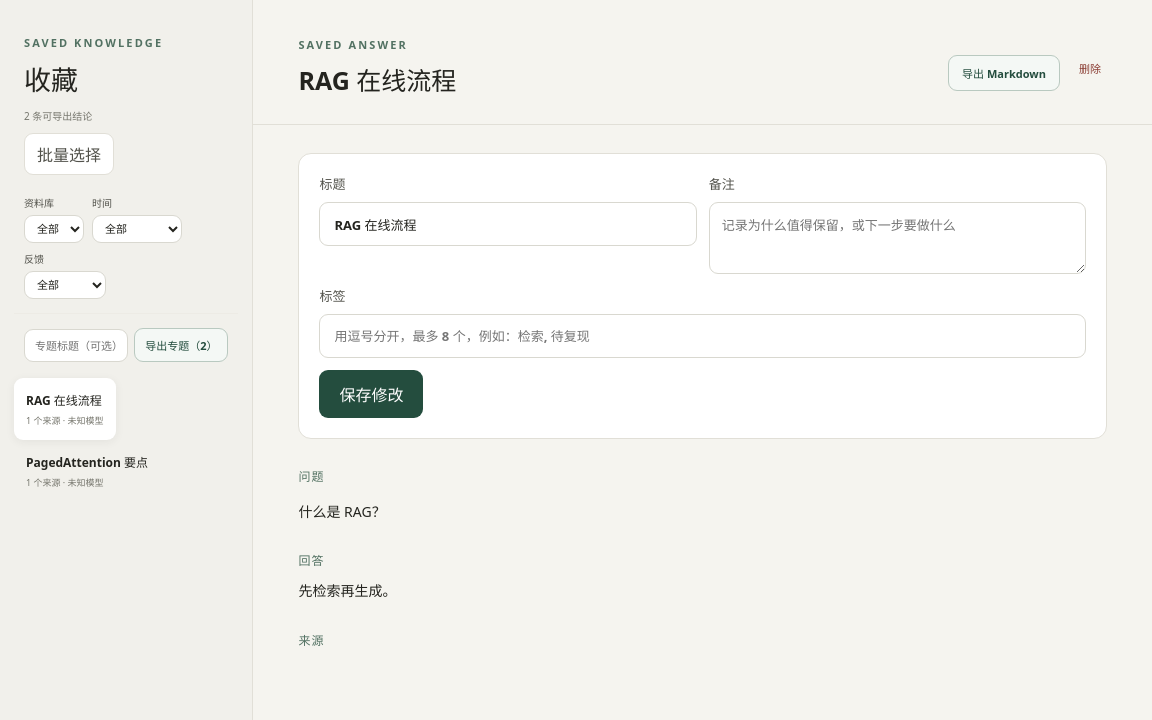
Scenario: FavoritesPage 的批量删除 › 完成之后回到普通列表，选择状态清空
The width and height of the screenshot is (1152, 720).
Click the button "批量选择".
click(69, 154)  # box [24,133,114,175]
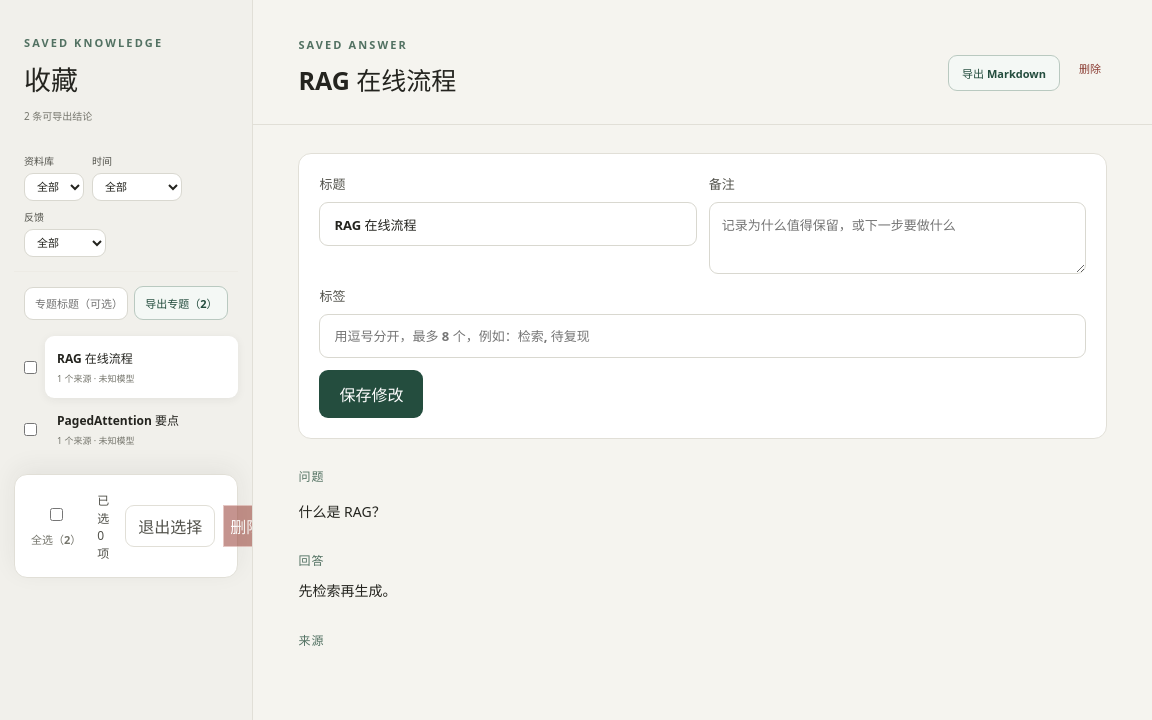
Click the button "PagedAttention 要点 1 个来源 · 未知模型".
click(142, 429)  # box [45,398,238,460]
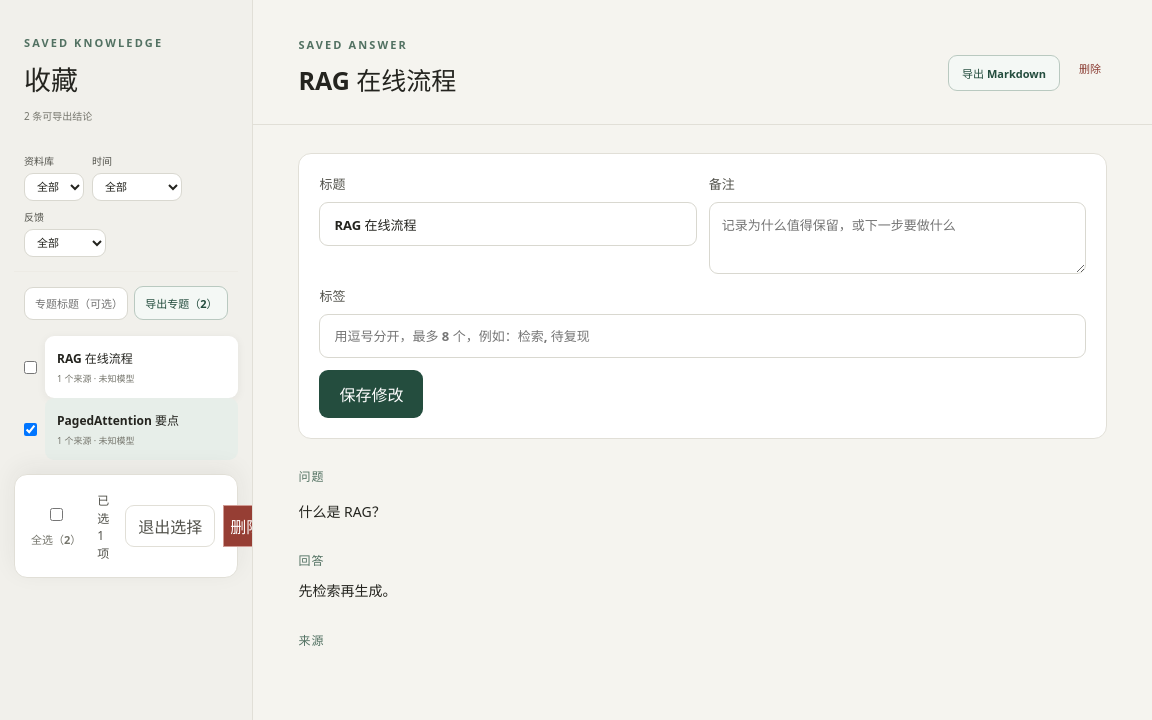
Now the text "已选 1 项" is shown, box [97,490,109,562]
Click the button with test id "batch-confirm".
click(246, 526)  # box [223,505,269,547]
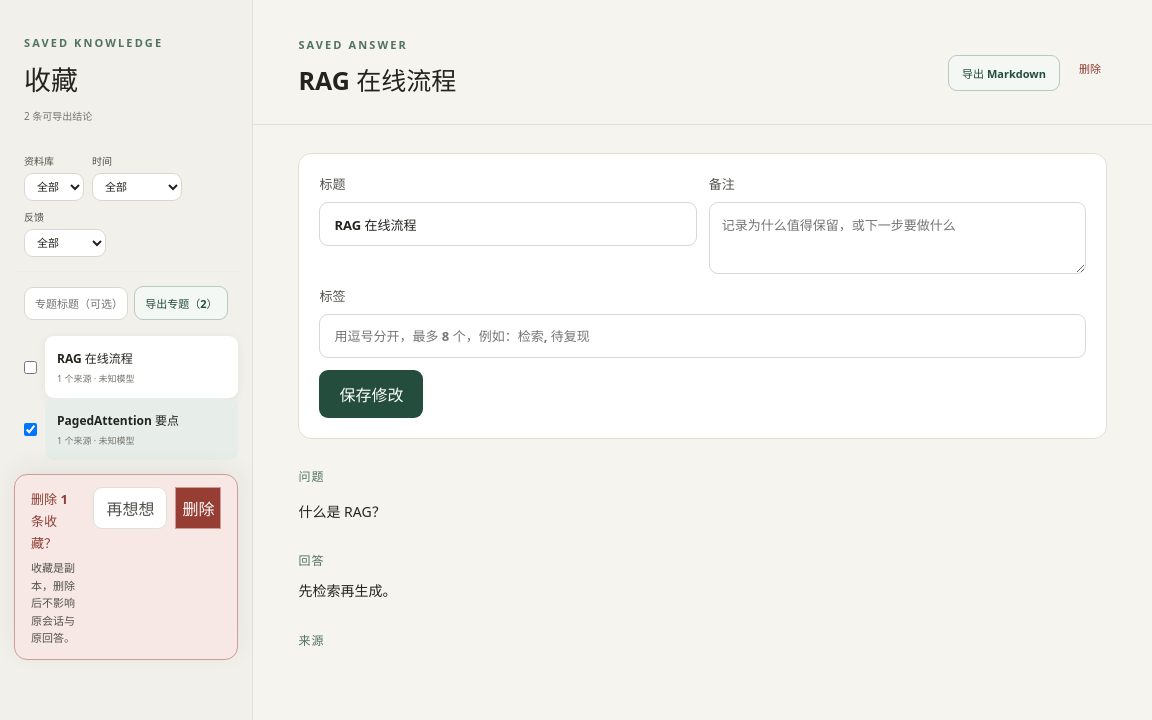
Click the button with test id "batch-confirm" in the row of "删除 1 条收藏？".
click(198, 508)  # box [175,487,221,529]
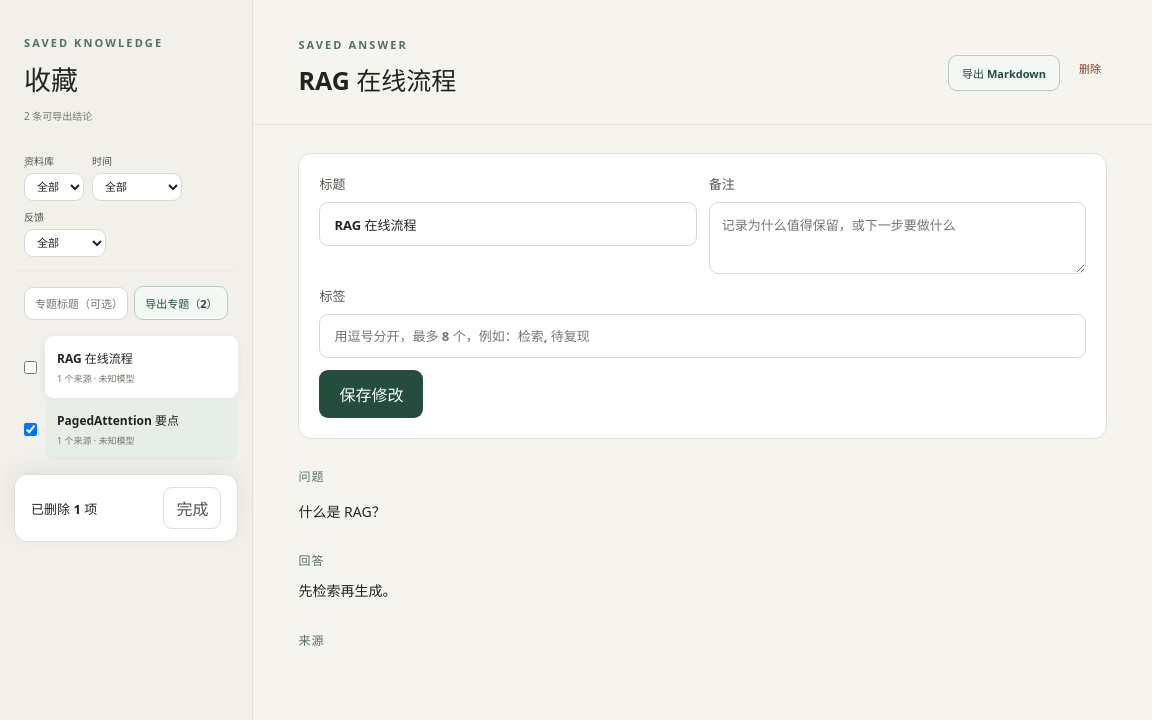
Click the button "完成".
click(192, 508)  # box [163,487,221,529]
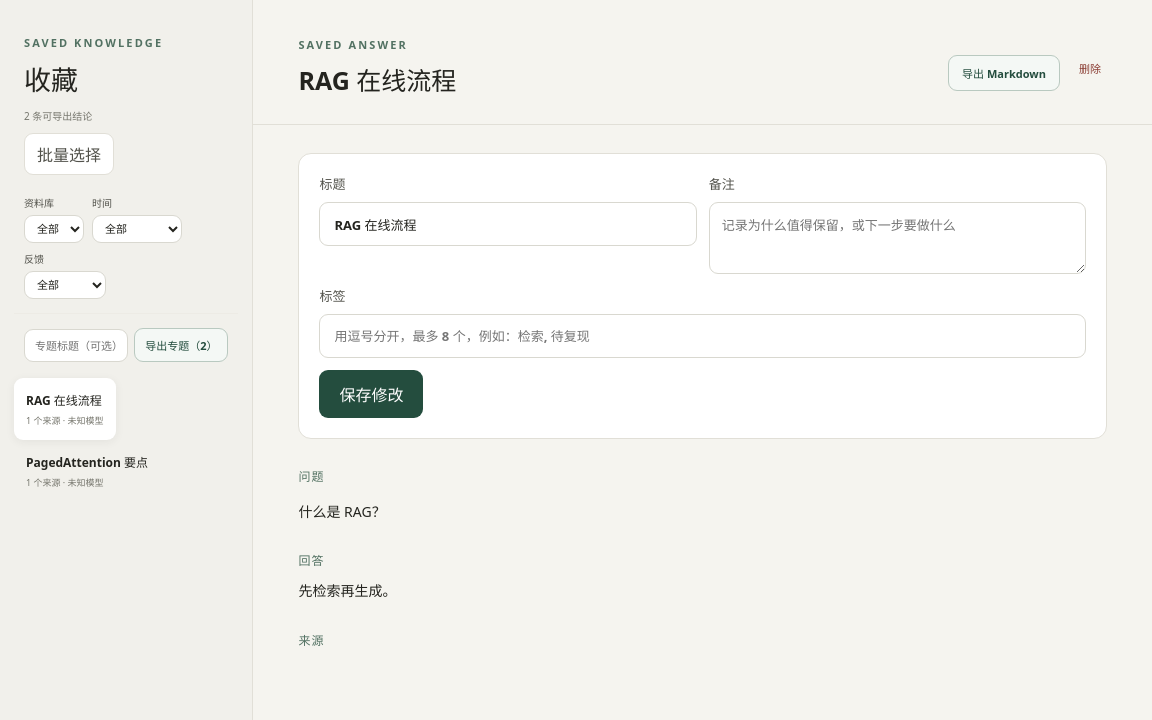
Expected: the text "已选" is not shown
Now the button "批量选择" is shown, box [24,133,114,175]
